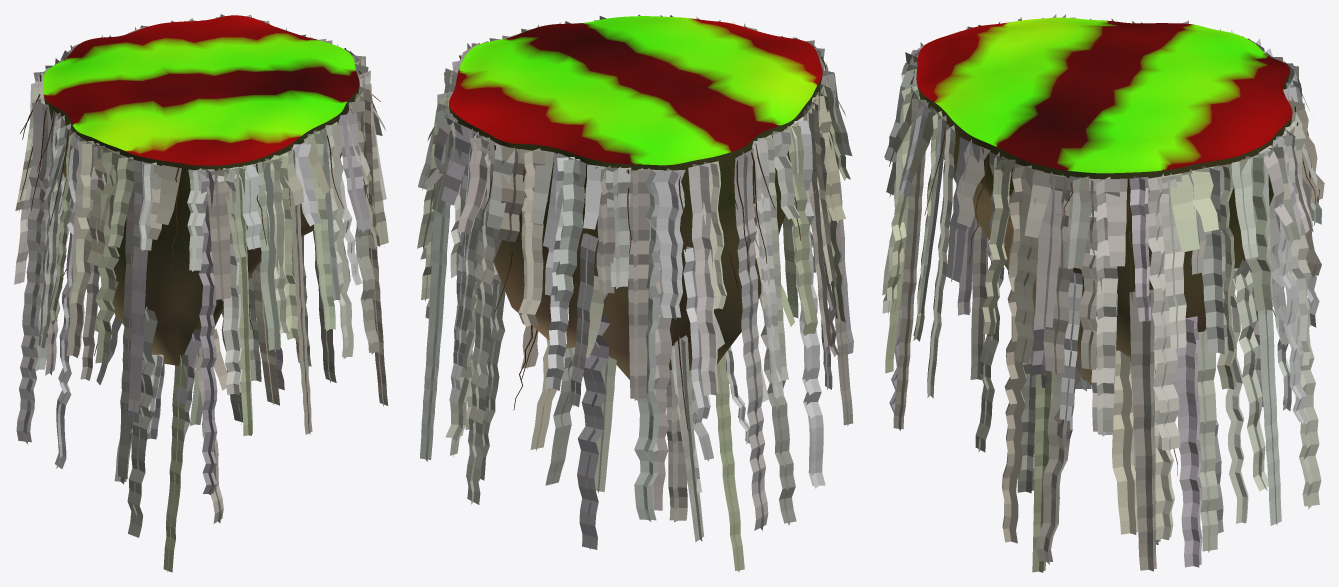
Rendered from SM_H05_Floater06.fbx.
3 views of the same model, side by side, from view 1: azimuth 30°, elevation 25°; view 2: azimuth 150°, elevation 25°; view 3: azimuth 270°, elevation 25° (orthographic). The views are drawn at different scales.
Parts seen in each view (by area): view 1: SM_H05_Floater06_Ivy, SM_H05_Floater06; view 2: SM_H05_Floater06_Ivy, SM_H05_Floater06; view 3: SM_H05_Floater06_Ivy, SM_H05_Floater06.
Part boxes in pixels (x1=…): SM_H05_Floater06_Ivy: x1=14, y1=14, x2=388, y2=572; SM_H05_Floater06: x1=43, y1=15, x2=359, y2=365; SM_H05_Floater06_Ivy: x1=417, y1=14, x2=853, y2=572; SM_H05_Floater06: x1=449, y1=16, x2=822, y2=379; SM_H05_Floater06_Ivy: x1=882, y1=14, x2=1324, y2=572; SM_H05_Floater06: x1=916, y1=17, x2=1292, y2=384.
Bounding box in the file's own units: 30.46 × 40.12 × 30.43.
